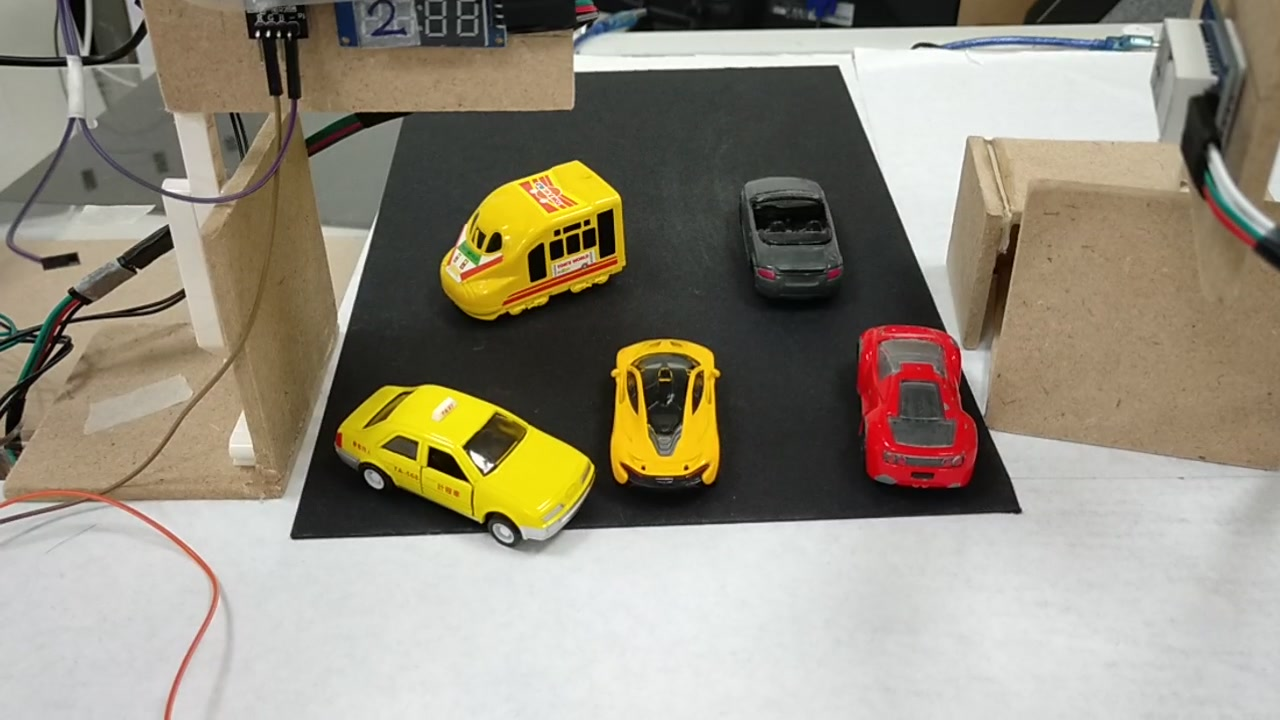car: (342, 385, 592, 552), (860, 319, 977, 488), (609, 338, 720, 488), (741, 177, 839, 288)
